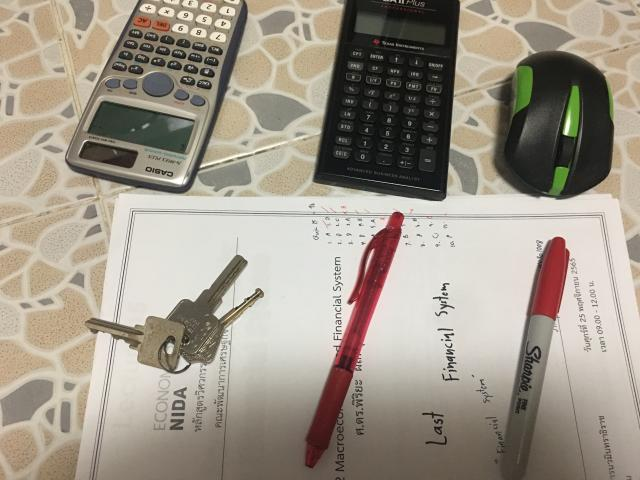Keys: (85, 255, 264, 374)
Mouse: (505, 51, 614, 195)
Pen: (305, 211, 404, 468), (502, 236, 569, 479)
paper: (76, 194, 640, 479)
